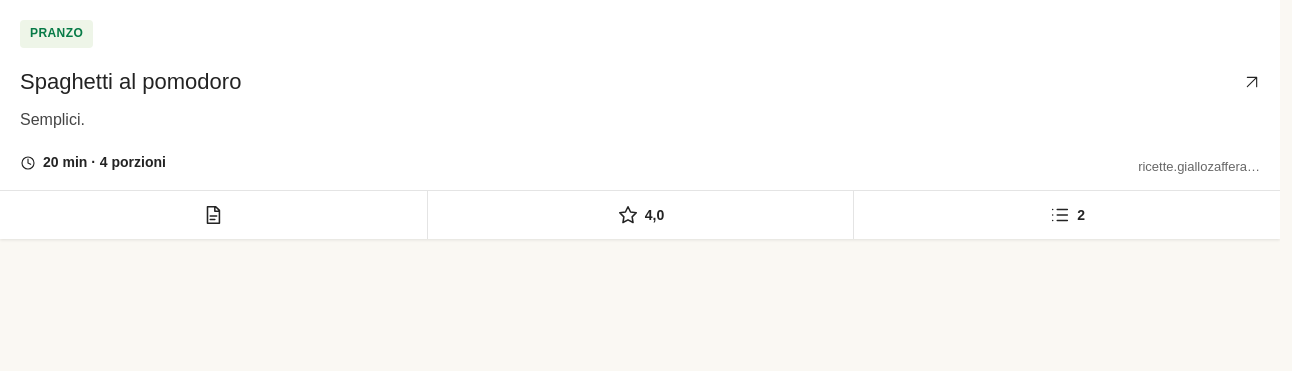
Scenario: RecipeCard › opens rating and ingredients one at a time
Click the button named "Voto della famiglia 4,0: apri per votare" at [640, 215], box [427,191,853,239]
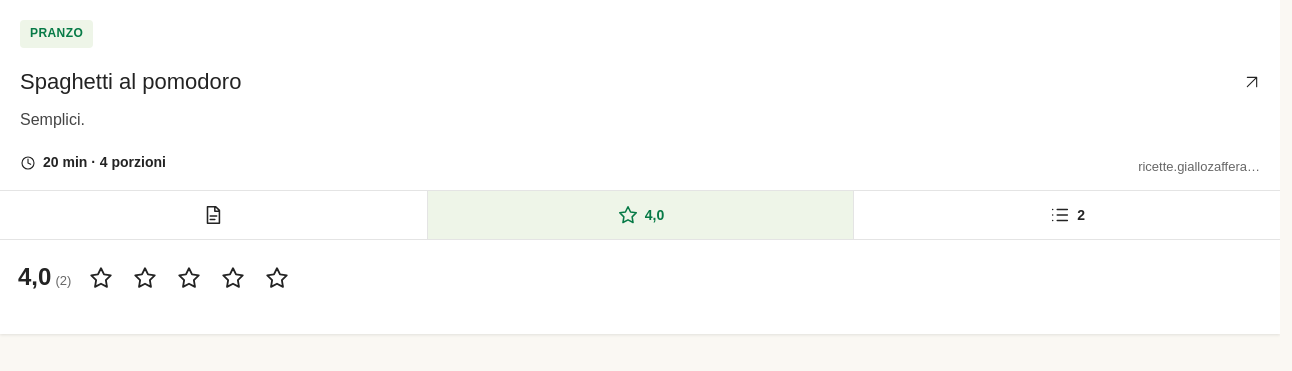
Check: the button named "Voto della famiglia 4,0: apri per votare" is expanded, box [427,191,853,239]
Check: the radio button named "Dai 5 stelle a Spaghetti al pomodoro" is shown, box [255,256,299,300]
Click the button named "2 ingredienti: mostra o nascondi" at [1067, 215], box [853,191,1280,239]
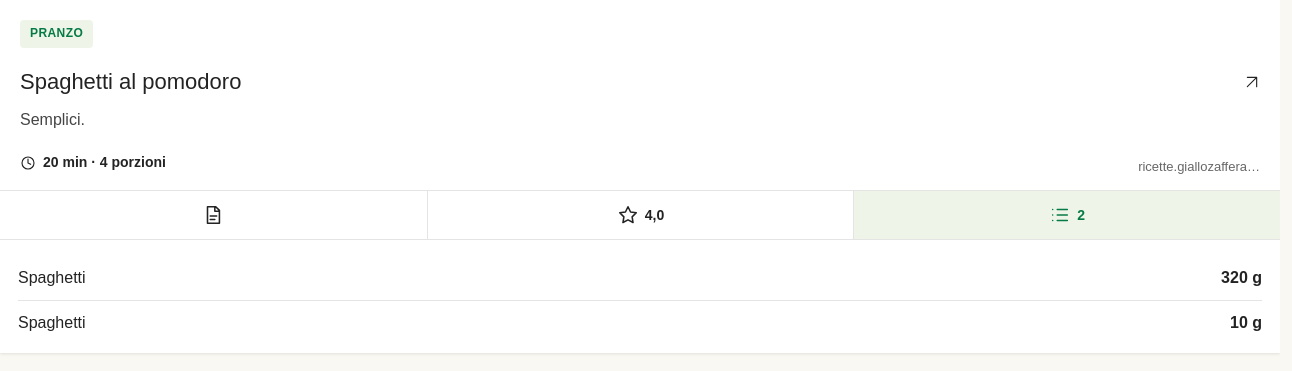
Check: the field labelled "Dai 5 stelle a Spaghetti al pomodoro" is not shown
Check: the button named "Voto della famiglia 4,0: apri per votare" is collapsed, box [427,191,853,239]
Check: the text "320 g" is shown, box [1221,266,1262,290]
